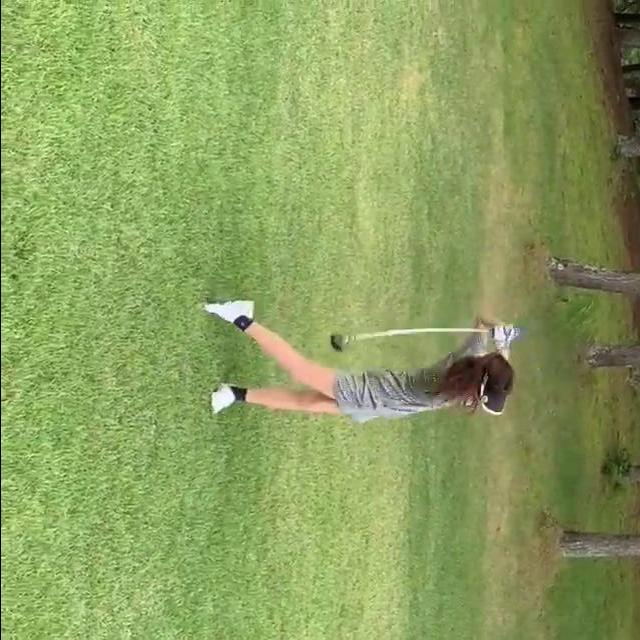ClubHandle: (329, 329, 490, 352)
ClubHead: (328, 332, 346, 352)
